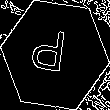P_S: (35, 27, 75, 83)
